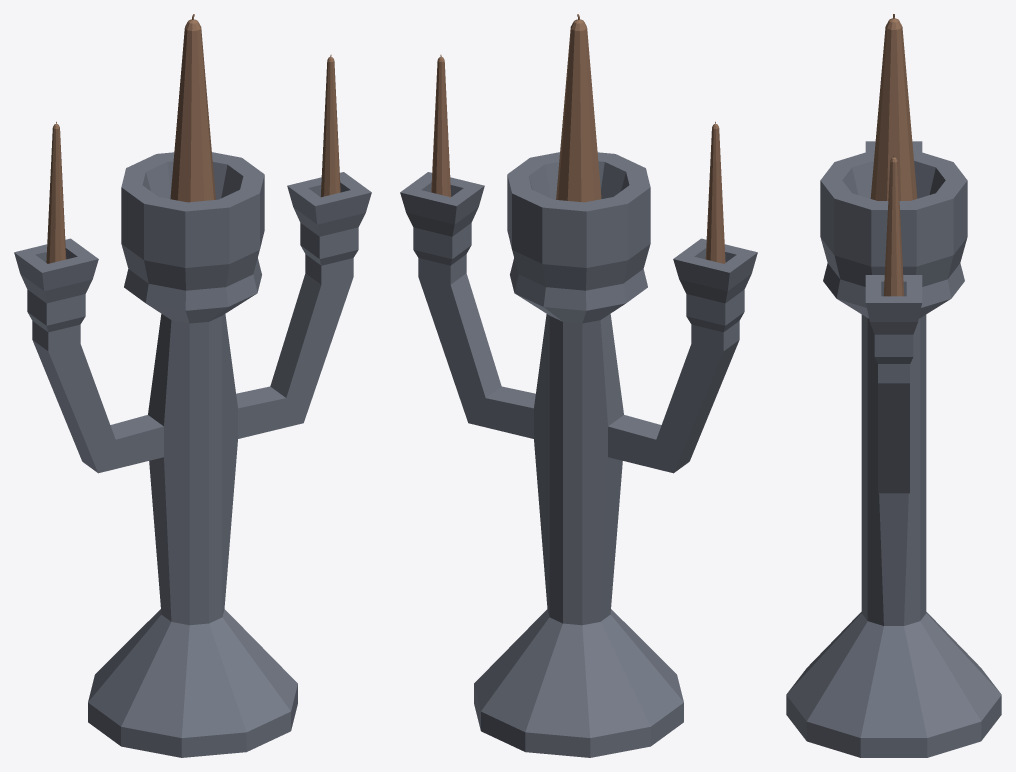
Rendered from samdan.fbx.
The picture shows the model from 3 angles, left to right: view 1: azimuth 30°, elevation 25°; view 2: azimuth 150°, elevation 25°; view 3: azimuth 270°, elevation 25°; orthographic projection.
Parts seen in each view (by area): view 1: Cylinder.027; view 2: Cylinder.027; view 3: Cylinder.027.
Boxes of the visible parts, bbox=[...] form: Cylinder.027: bbox=[14, 14, 371, 757]; Cylinder.027: bbox=[400, 14, 757, 757]; Cylinder.027: bbox=[786, 14, 1001, 757].
Size of the model in its own units: 0.7083 by 1.43 by 0.3994.
